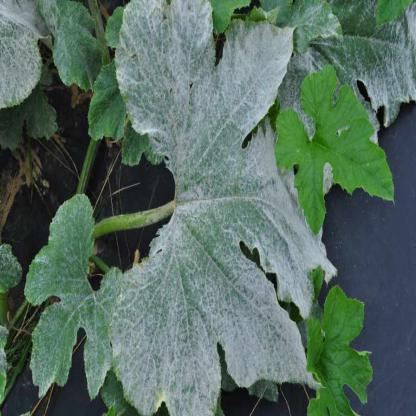Squash Powdery mildew leaf: (20, 1, 319, 412)
